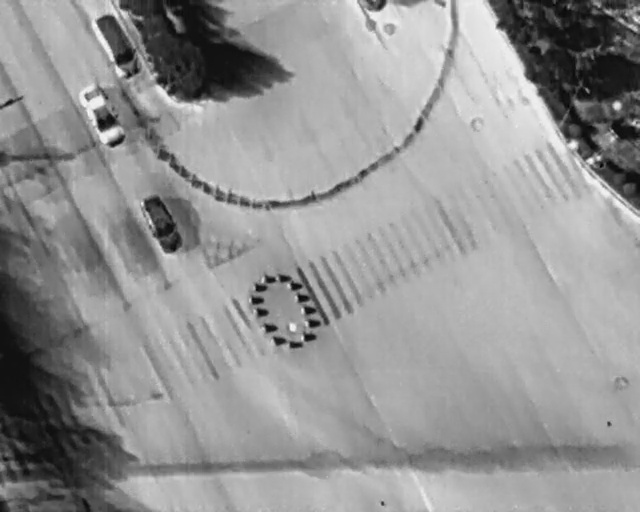Car: (85, 8, 146, 83), (76, 80, 131, 151), (135, 189, 186, 257)
